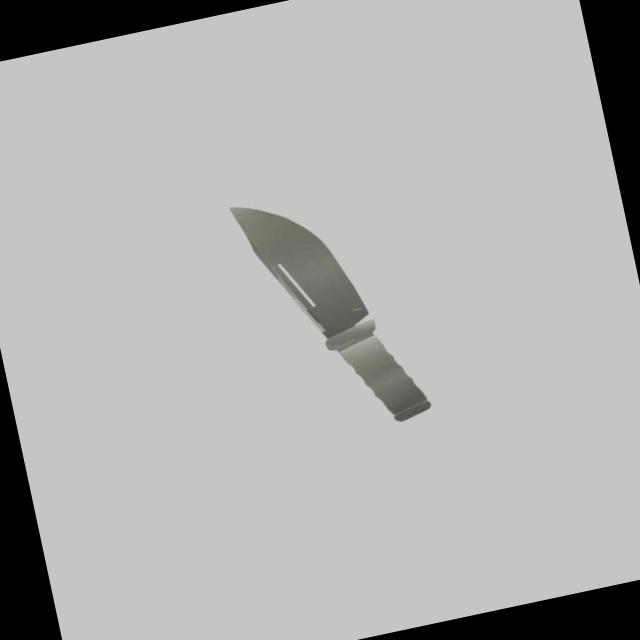knife: (324, 312, 432, 432)
